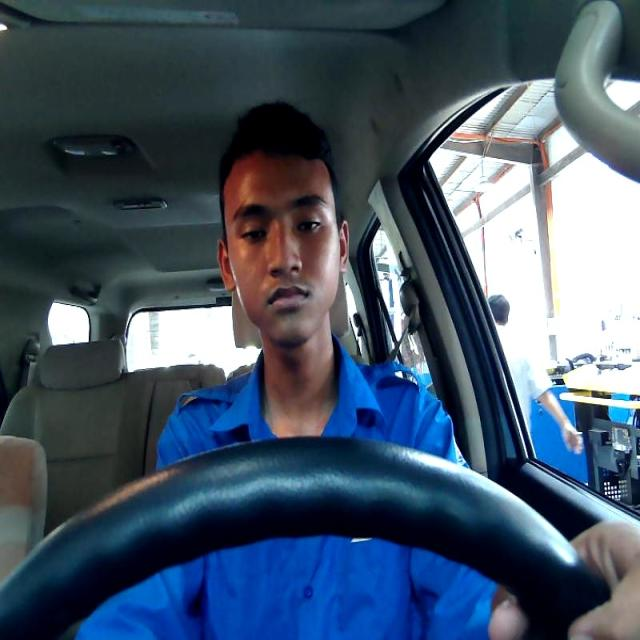focused: (215, 154, 349, 346)
